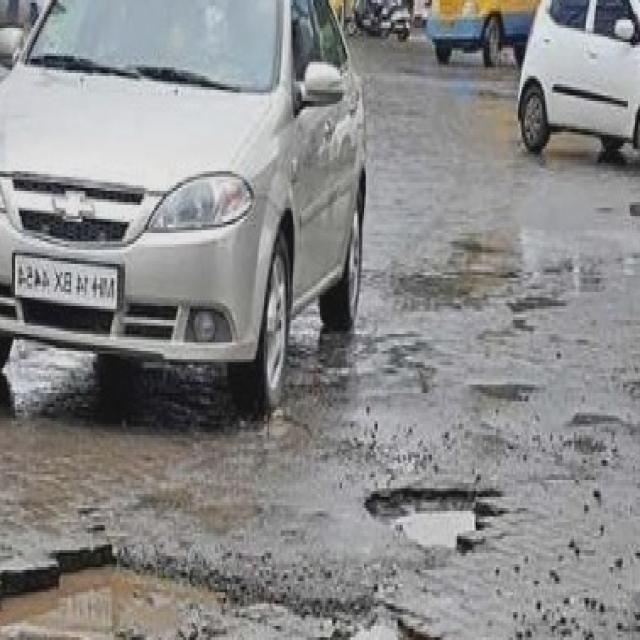road-pothole: (1, 551, 427, 637), (361, 483, 489, 552), (468, 379, 538, 406)
